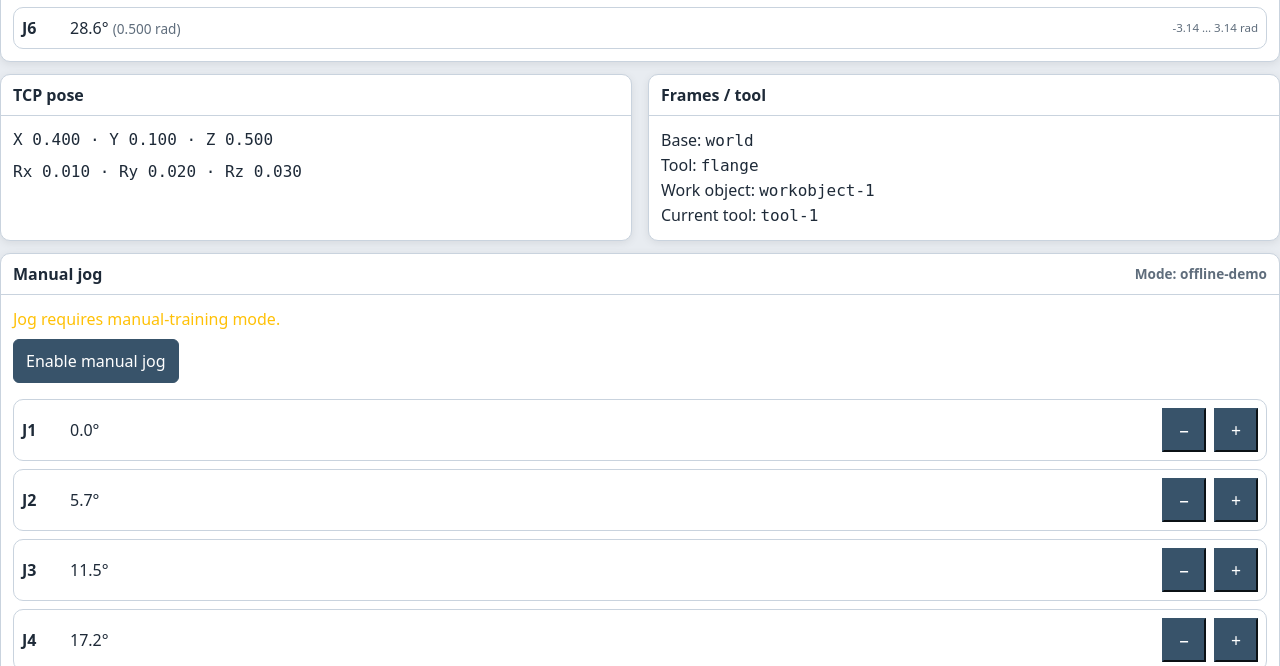
Test case: RobotPositionsView › blocks jog until manual-training mode is enabled through the confirmation dialog
(page scrolled)
Check: the button with test id "robot-jog-J1-plus" is disabled, box [1214, 408, 1258, 452]
Check: the text "Jog requires manual-training mode." is shown, box [13, 308, 280, 330]
Click the button with test id "robot-enable-jog" at [96, 361], box [13, 339, 178, 383]
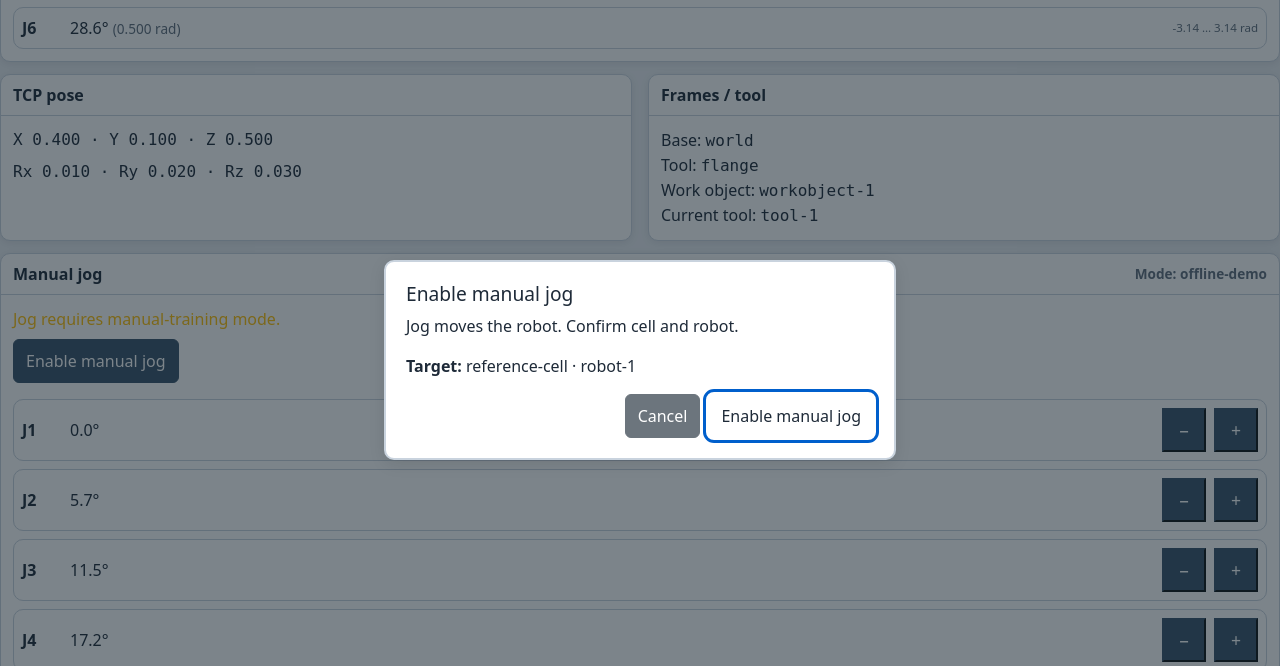
Check: the dialog is shown, box [384, 260, 896, 460]
Check: the text with test id "confirm-target" shows "reference-cell", box [466, 354, 636, 376]
Click the button with class "btn-hmi" showing "Enable manual jog" at [791, 416], box [708, 394, 874, 438]
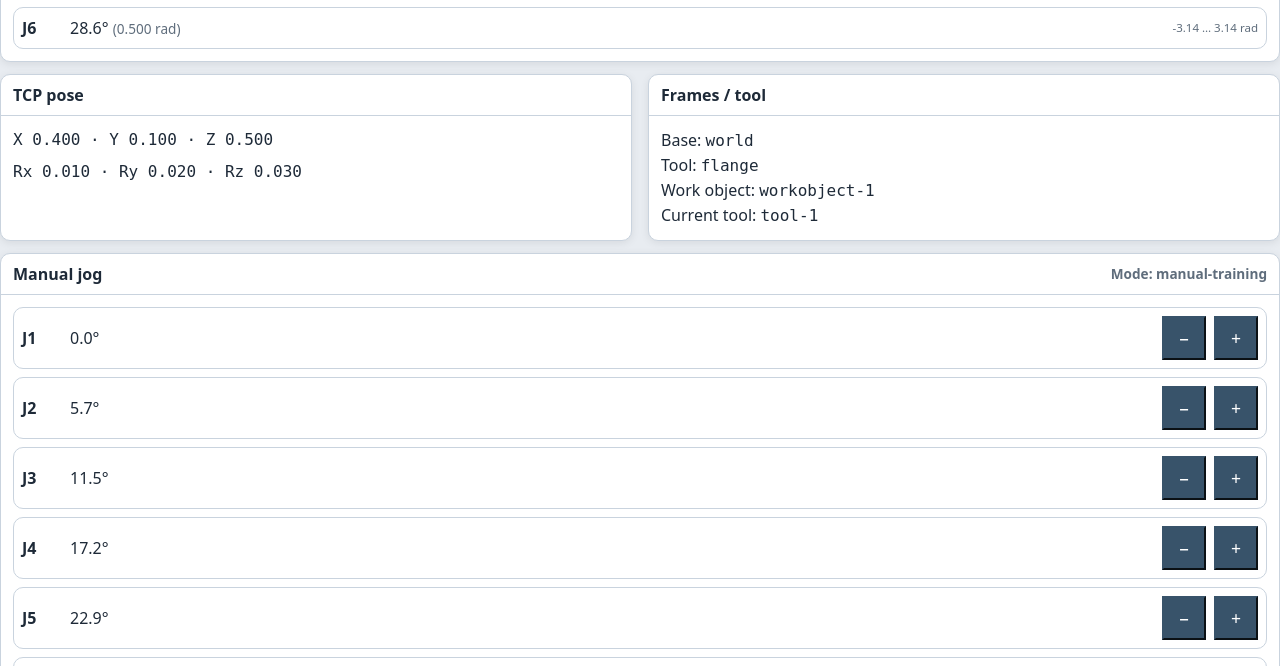
Check: the button with test id "robot-jog-J1-plus" is enabled, box [1214, 316, 1258, 360]
